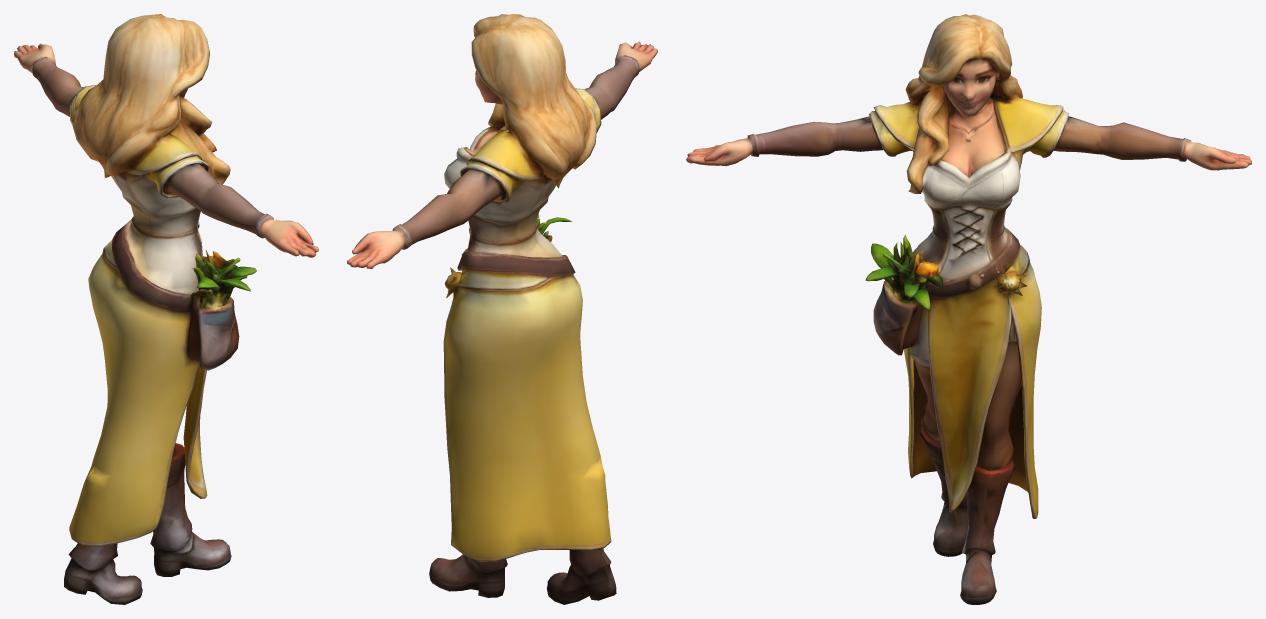
3 renders of one model, left to right at view 1: azimuth 30°, elevation 25°; view 2: azimuth 150°, elevation 25°; view 3: azimuth 270°, elevation 25°, orthographic. The views are drawn at different scales.
Visible parts, largest first — view 1: tripo_node_309aaf5e-e81b-48fb-b848-4d1e82ac8916; view 2: tripo_node_309aaf5e-e81b-48fb-b848-4d1e82ac8916; view 3: tripo_node_309aaf5e-e81b-48fb-b848-4d1e82ac8916.
Boxes of the visible parts, box(x1,y1,x2,y2) form: tripo_node_309aaf5e-e81b-48fb-b848-4d1e82ac8916: box(14, 14, 318, 604); tripo_node_309aaf5e-e81b-48fb-b848-4d1e82ac8916: box(347, 14, 657, 604); tripo_node_309aaf5e-e81b-48fb-b848-4d1e82ac8916: box(686, 14, 1251, 604).
Size of the model in its own units: 0.3184 by 0.998 by 0.9316.
1 material, 1 textured.
